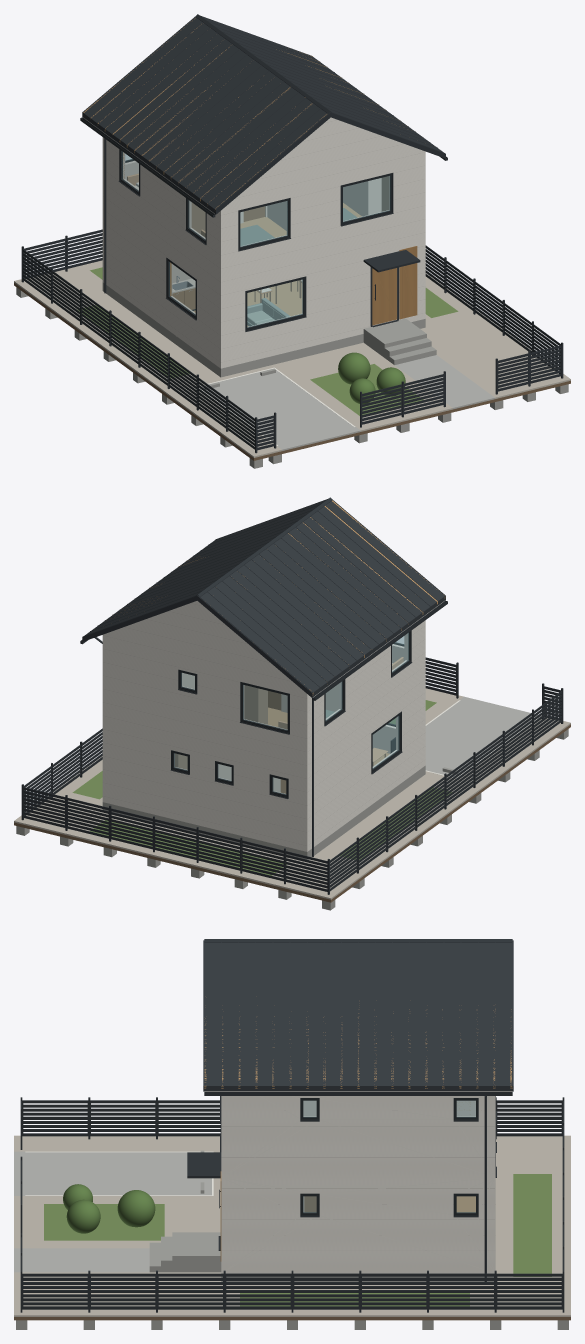
Rendered from house_3d.glb.
The picture shows the model from 3 angles, top to bottom: view 1: azimuth 30°, elevation 25°; view 2: azimuth 150°, elevation 25°; view 3: azimuth 270°, elevation 25°; orthographic projection. The views are drawn at different scales.
Visible parts, largest first — view 1: roof:west_plane, yard:ground_surfaces:gravel, F2:exterior:cladding:south, F1:exterior:cladding:south, F1:exterior:cladding:west, F2:exterior:cladding:west, yard:parking:paving, roof:east_plane, roof:cladding:south_gable, yard:entrance_path:paving, yard:soil:base, F1:W01:glass (+37 smaller); view 2: roof:west_plane, F1:exterior:cladding:north, F2:exterior:cladding:north, yard:ground_surfaces:gravel, F1:exterior:cladding:west, F2:exterior:cladding:west, roof:east_plane, roof:cladding:north_gable, yard:parking:paving, yard:soil:base, F2:W05:glass, yard:planting:lawn_north (+29 smaller); view 3: roof:east_plane, F1:exterior:cladding:east, yard:ground_surfaces:gravel, F2:exterior:cladding:east, yard:parking:paving, yard:planting:lawn_north, yard:entrance_path:paving, yard:planting:lawn_front, yard:soil:base, fence:panels:west_01, fence:panels:east_01, fence:panels:east_04 (+18 smaller).
Part boxes in pixels (<box>): roof:west_plane: <box>82,17,327,213</box>; yard:ground_surfaces:gravel: <box>14,260,570,457</box>; F2:exterior:cladding:south: <box>220,149,425,286</box>; F1:exterior:cladding:south: <box>220,236,425,368</box>; F1:exterior:cladding:west: <box>103,200,220,368</box>; F2:exterior:cladding:west: <box>103,137,220,285</box>; yard:parking:paving: <box>201,368,360,450</box>; roof:east_plane: <box>201,16,443,152</box>; roof:cladding:south_gable: <box>242,117,419,192</box>; yard:entrance_path:paving: <box>395,355,494,409</box>; yard:soil:base: <box>14,283,570,460</box>; F1:W01:glass: <box>247,279,302,327</box>; roof:west_plane: <box>200,501,445,696</box>; F1:exterior:cladding:north: <box>102,720,307,851</box>; F2:exterior:cladding:north: <box>102,633,307,769</box>; yard:ground_surfaces:gravel: <box>14,688,570,899</box>; F1:exterior:cladding:west: <box>307,683,425,851</box>; F2:exterior:cladding:west: <box>307,621,425,768</box>; roof:east_plane: <box>84,500,325,635</box>; roof:cladding:north_gable: <box>108,601,285,675</box>; yard:parking:paving: <box>425,696,541,776</box>; yard:soil:base: <box>14,724,570,902</box>; F2:W05:glass: <box>243,685,287,729</box>; yard:planting:lawn_north: <box>90,820,286,875</box>; roof:east_plane: <box>204,943,512,1090</box>; F1:exterior:cladding:east: <box>222,1177,494,1273</box>; yard:ground_surfaces:gravel: <box>14,1135,570,1316</box>; F2:exterior:cladding:east: <box>222,1096,494,1177</box>; yard:parking:paving: <box>14,1151,211,1195</box>; yard:planting:lawn_north: <box>513,1174,551,1276</box>; yard:entrance_path:paving: <box>14,1248,149,1272</box>; yard:planting:lawn_front: <box>44,1204,164,1240</box>; yard:soil:base: <box>14,1317,570,1320</box>; fence:panels:west_01: <box>22,1100,88,1136</box>; fence:panels:east_01: <box>22,1273,88,1309</box>; fence:panels:east_04: <box>225,1273,291,1309</box>.
Bounding box in the file's own units: 11.28 × 8.83 × 14.78.
Materials: 730 (12 with a texture image).
